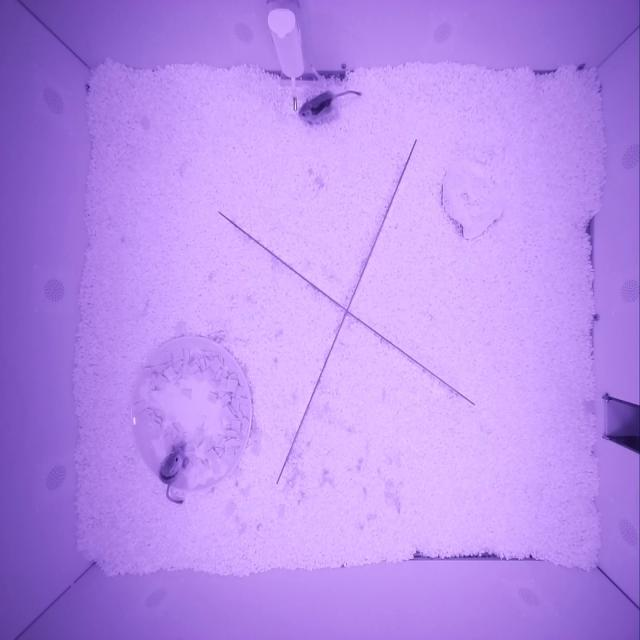pup_h_stripe: (158, 447, 185, 486)
pup_v_stripe: (297, 89, 337, 124)
